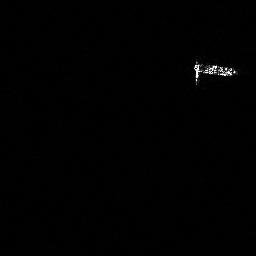ship: (192, 59, 238, 88)
